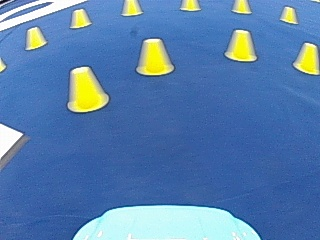cone: (66, 65, 108, 112), (136, 37, 173, 76), (224, 28, 256, 62), (293, 41, 319, 74), (25, 26, 46, 50), (70, 8, 91, 28), (280, 6, 298, 24), (121, 0, 141, 16), (232, 0, 250, 14), (181, 0, 199, 11)
